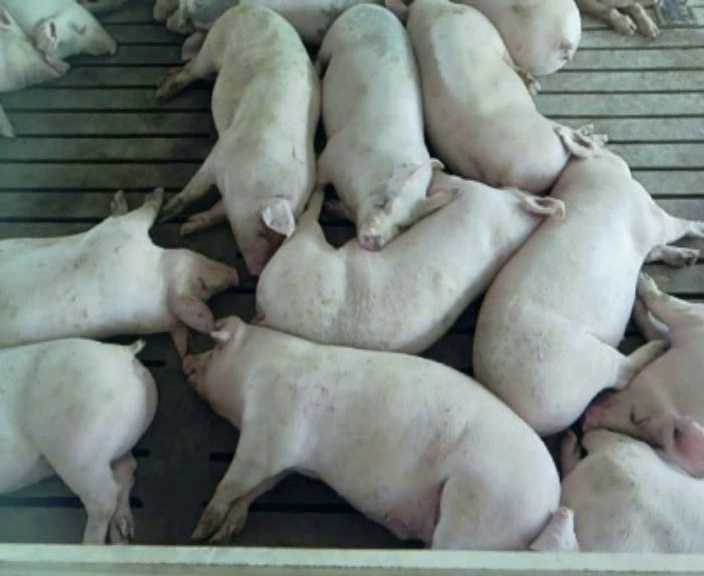pig: (184, 317, 558, 548), (474, 125, 703, 434), (258, 172, 561, 352), (157, 4, 319, 274), (0, 188, 236, 357), (318, 4, 458, 249), (583, 274, 703, 476), (529, 429, 703, 551), (469, 2, 580, 75)
